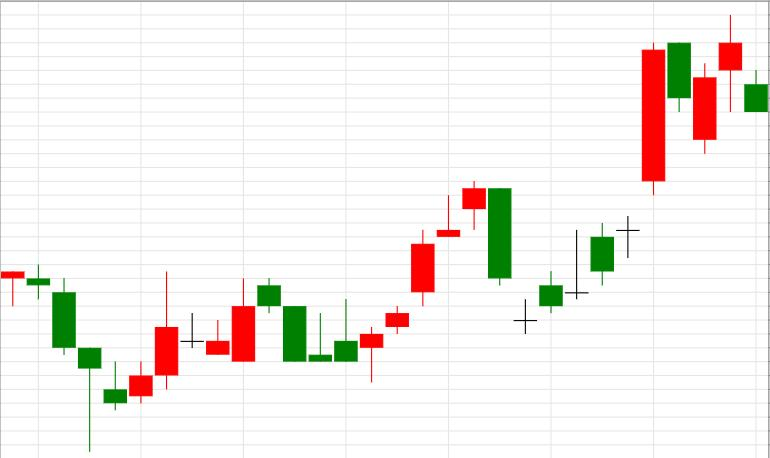evening_star_fall: (129, 271, 306, 404)
